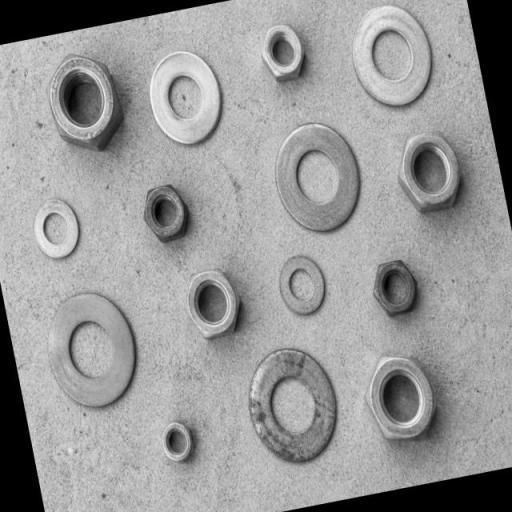Nut: (49, 54, 123, 150), (368, 355, 439, 444), (398, 133, 462, 215), (186, 269, 241, 340), (372, 259, 420, 319), (144, 184, 189, 242), (261, 24, 305, 83), (162, 420, 194, 465)
Washer: (248, 347, 339, 466), (49, 291, 139, 410), (274, 122, 361, 234), (352, 4, 433, 107), (148, 50, 223, 146), (278, 255, 327, 318), (33, 199, 81, 261)
